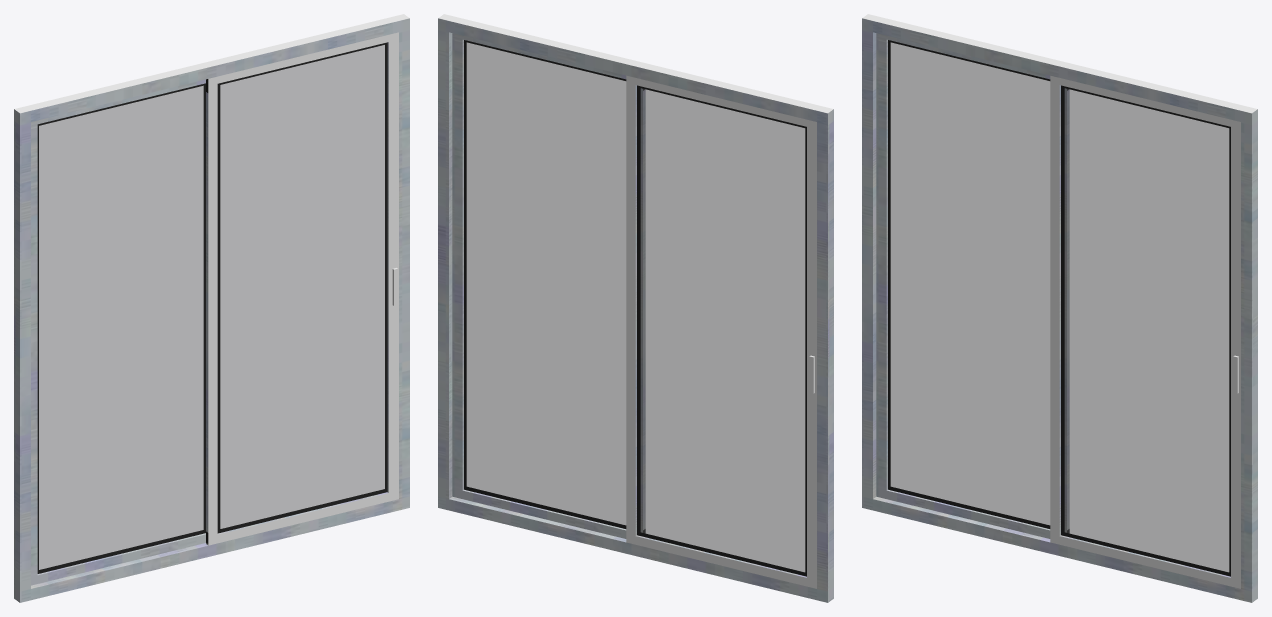
File: window.obj
The picture shows the model from 3 angles, left to right: view 1: azimuth 30°, elevation 25°; view 2: azimuth 150°, elevation 25°; view 3: azimuth 330°, elevation 25°; orthographic projection.
Visible parts, largest first — view 1: Mesh1 Group2 Group1 Model, Mesh2 Group3 Group1 Model, Mesh3 Group1 Model; view 2: Mesh2 Group3 Group1 Model, Mesh1 Group2 Group1 Model, Mesh3 Group1 Model; view 3: Mesh1 Group2 Group1 Model, Mesh2 Group3 Group1 Model, Mesh3 Group1 Model.
Part boxes in pixels (<box>): Mesh1 Group2 Group1 Model: <box>206,32,398,545</box>; Mesh2 Group3 Group1 Model: <box>31,79,205,585</box>; Mesh3 Group1 Model: <box>14,14,409,602</box>; Mesh2 Group3 Group1 Model: <box>626,75,816,588</box>; Mesh1 Group2 Group1 Model: <box>452,33,645,538</box>; Mesh3 Group1 Model: <box>438,14,833,602</box>; Mesh1 Group2 Group1 Model: <box>1050,75,1240,588</box>; Mesh2 Group3 Group1 Model: <box>876,33,1069,538</box>; Mesh3 Group1 Model: <box>862,14,1257,602</box>.
Bounding box in the file's own units: 70.87 × 85.04 × 2.65.
Materials: 4 (1 with a texture image).
